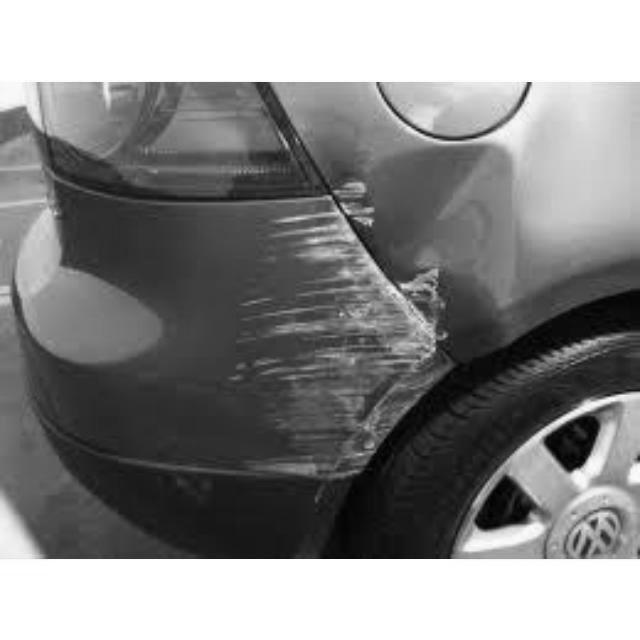rear-bumper-dent: (17, 185, 467, 541)
